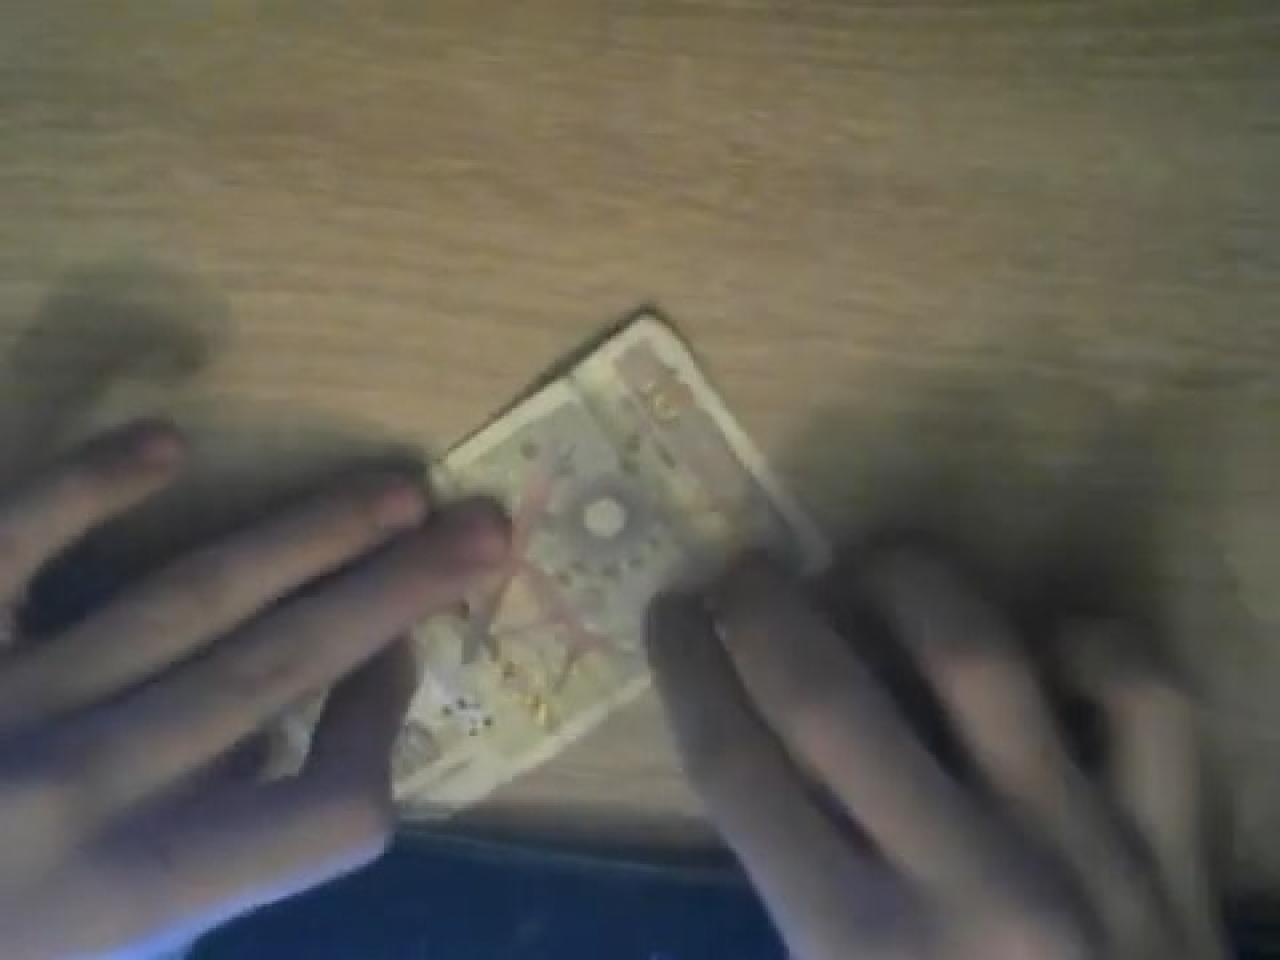10leva: (432, 304, 824, 806)
